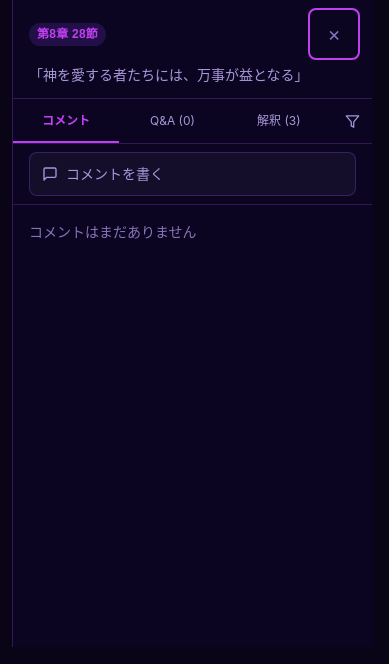
節のパネルの「解釈」タブ › 論じるもの・章や書全体・触れているだけ、を分けて出す
This screenshot has width=389, height=664.
Click the tab "解釈 (3)" at (279, 121), box [226,99,332,143]
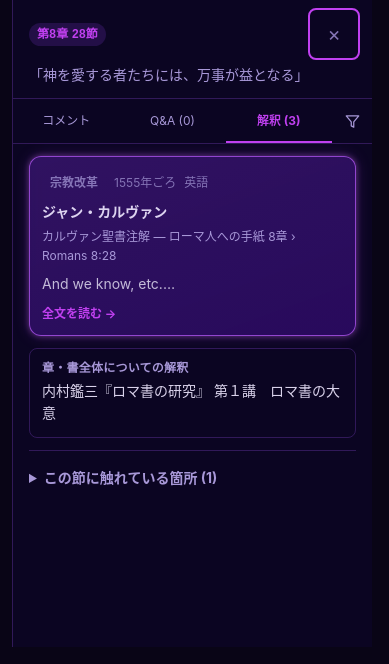
Check: the element with test id "commentary-entry" shows "ジャン・カルヴァン", box [42,203,167,220]
Check: the element with test id "commentary-entry" shows "宗教改革", box [50,175,98,190]
Check: the element with test id "commentary-entry" shows "1555年ごろ", box [114,175,176,190]
